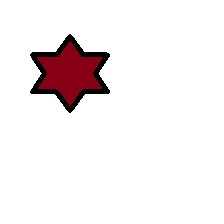star: (29, 34, 108, 113)
